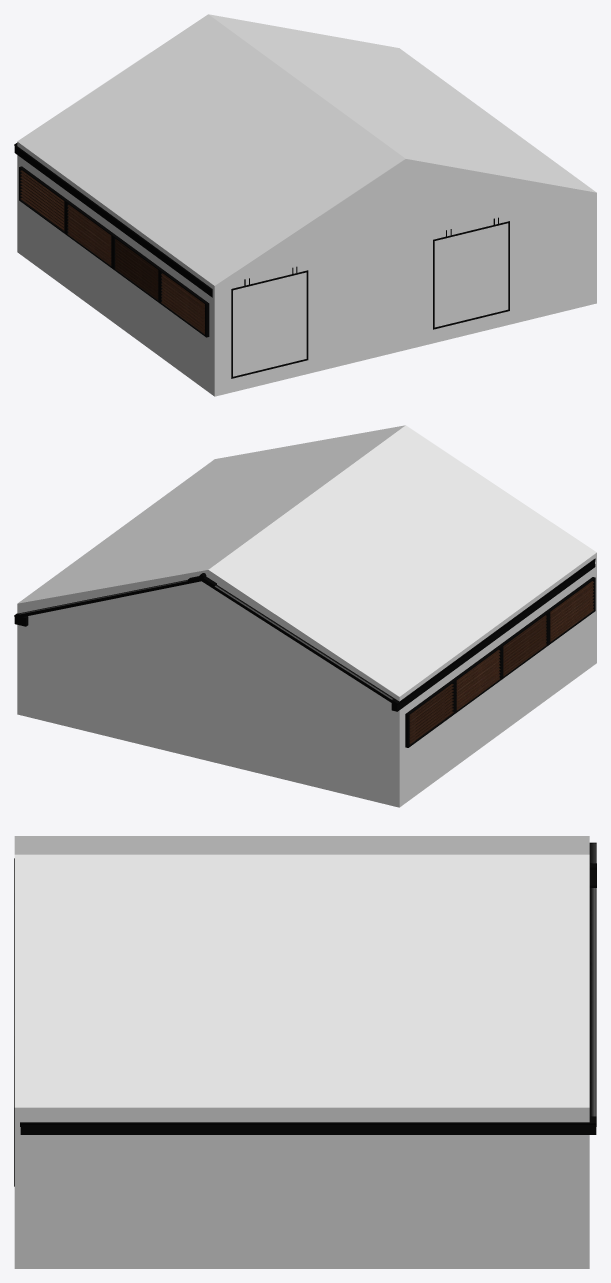
The model's file is Warehouse.fbx.
3 views of the same model, one above another, from view 1: azimuth 30°, elevation 25°; view 2: azimuth 150°, elevation 25°; view 3: azimuth 270°, elevation 25° (orthographic). The views are drawn at different scales.
Parts seen in each view (by area): view 1: Structure, Vents, Sheeting, Door2, Door1; view 2: Structure, Vents, Sheeting; view 3: Structure, Sheeting.
Part boxes in pixels (left/top/right/bottom): Structure: left=17, top=14, right=596, bottom=396; Vents: left=19, top=166, right=209, bottom=337; Sheeting: left=14, top=143, right=212, bottom=297; Door2: left=231, top=266, right=308, bottom=378; Door1: left=433, top=217, right=509, bottom=329; Structure: left=17, top=425, right=596, bottom=807; Vents: left=405, top=577, right=595, bottom=747; Sheeting: left=14, top=558, right=595, bottom=711; Structure: left=14, top=836, right=589, bottom=1268; Sheeting: left=20, top=842, right=596, bottom=1134.
Bounding box in the file's own units: 961 × 454 × 861.
6 materials, 6 textured.
